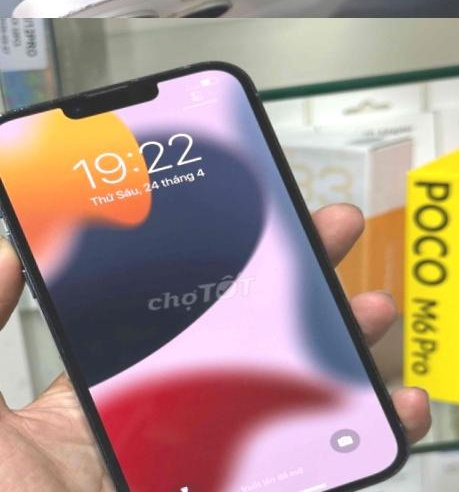scratch: (0, 87, 68, 229), (105, 51, 240, 100)
